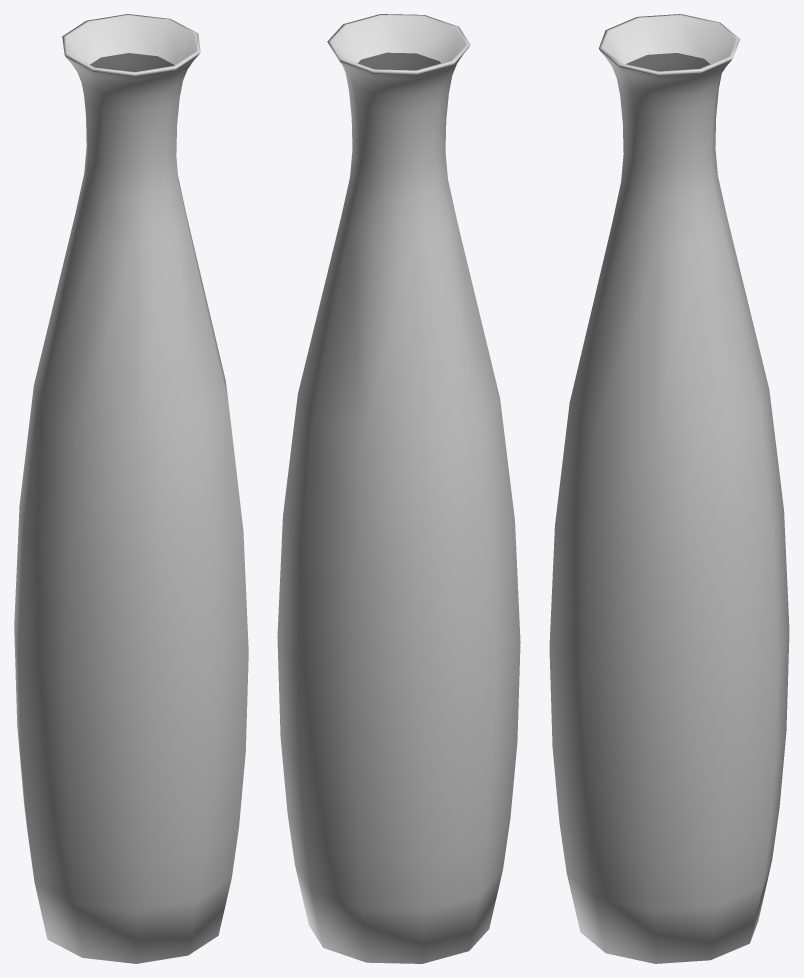
Rendered from vas.fbx.
3 views of the same model, side by side, from view 1: azimuth 30°, elevation 25°; view 2: azimuth 150°, elevation 25°; view 3: azimuth 270°, elevation 25° (orthographic).
Parts seen in each view (by area): view 1: vas; view 2: vas; view 3: vas.
Boxes of the visible parts, x1,y1,x2,y2 form: vas: [14, 14, 248, 963]; vas: [277, 14, 520, 963]; vas: [549, 14, 789, 963].
Size of the model in its own units: 10.33 by 41.91 by 10.33.
